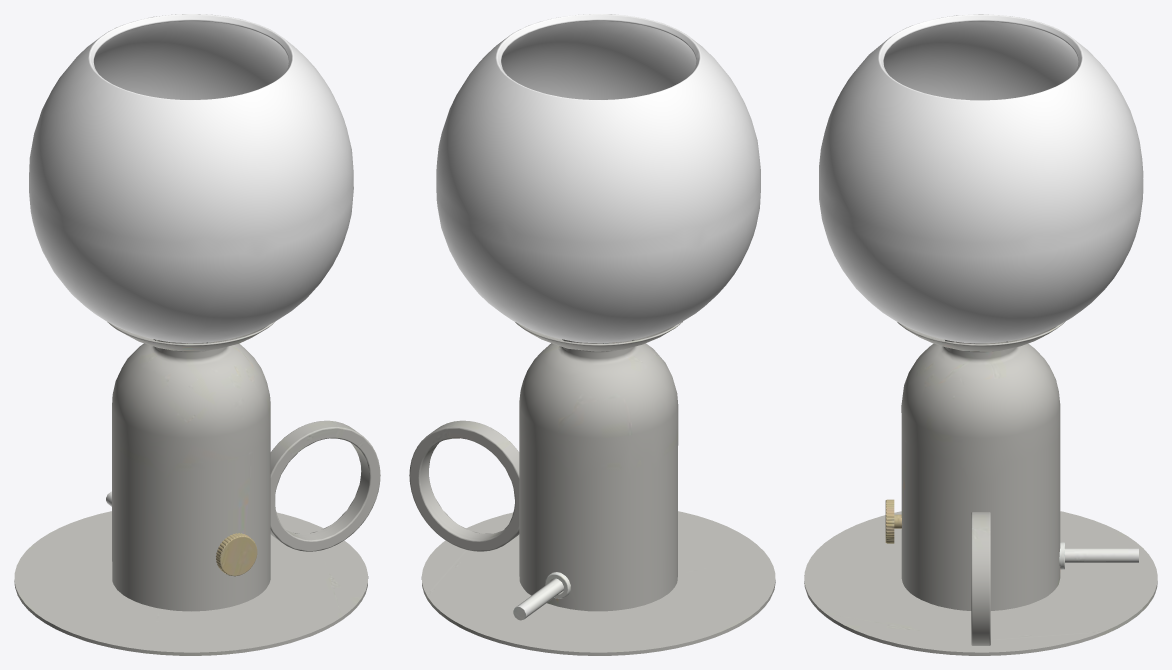
File: askmuller_lampa_stoowa_60576240.glb
The picture shows the model from 3 angles, left to right: view 1: azimuth 30°, elevation 25°; view 2: azimuth 150°, elevation 25°; view 3: azimuth 270°, elevation 25°; orthographic projection.
Parts seen in each view (by area): view 1: askmuller_lampa_stoowa_60576240; view 2: askmuller_lampa_stoowa_60576240; view 3: askmuller_lampa_stoowa_60576240.
Boxes of the visible parts, x1,y1,x2,y2 form: askmuller_lampa_stoowa_60576240: (14, 14, 380, 655); askmuller_lampa_stoowa_60576240: (409, 14, 775, 655); askmuller_lampa_stoowa_60576240: (804, 14, 1157, 655).
Size of the model in its own units: 0.16 by 0.2372 by 0.145.
2 materials, 2 textured.
